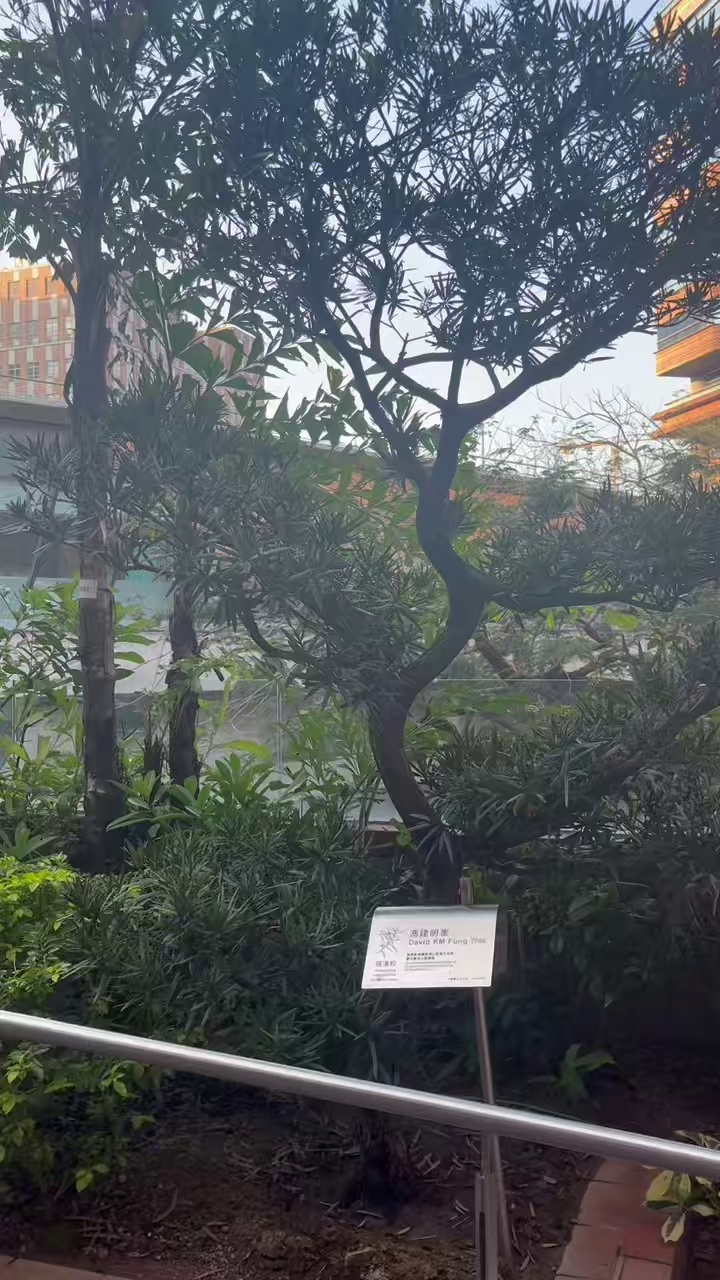Podocarpus macrophyllus: (106, 0, 719, 903)
